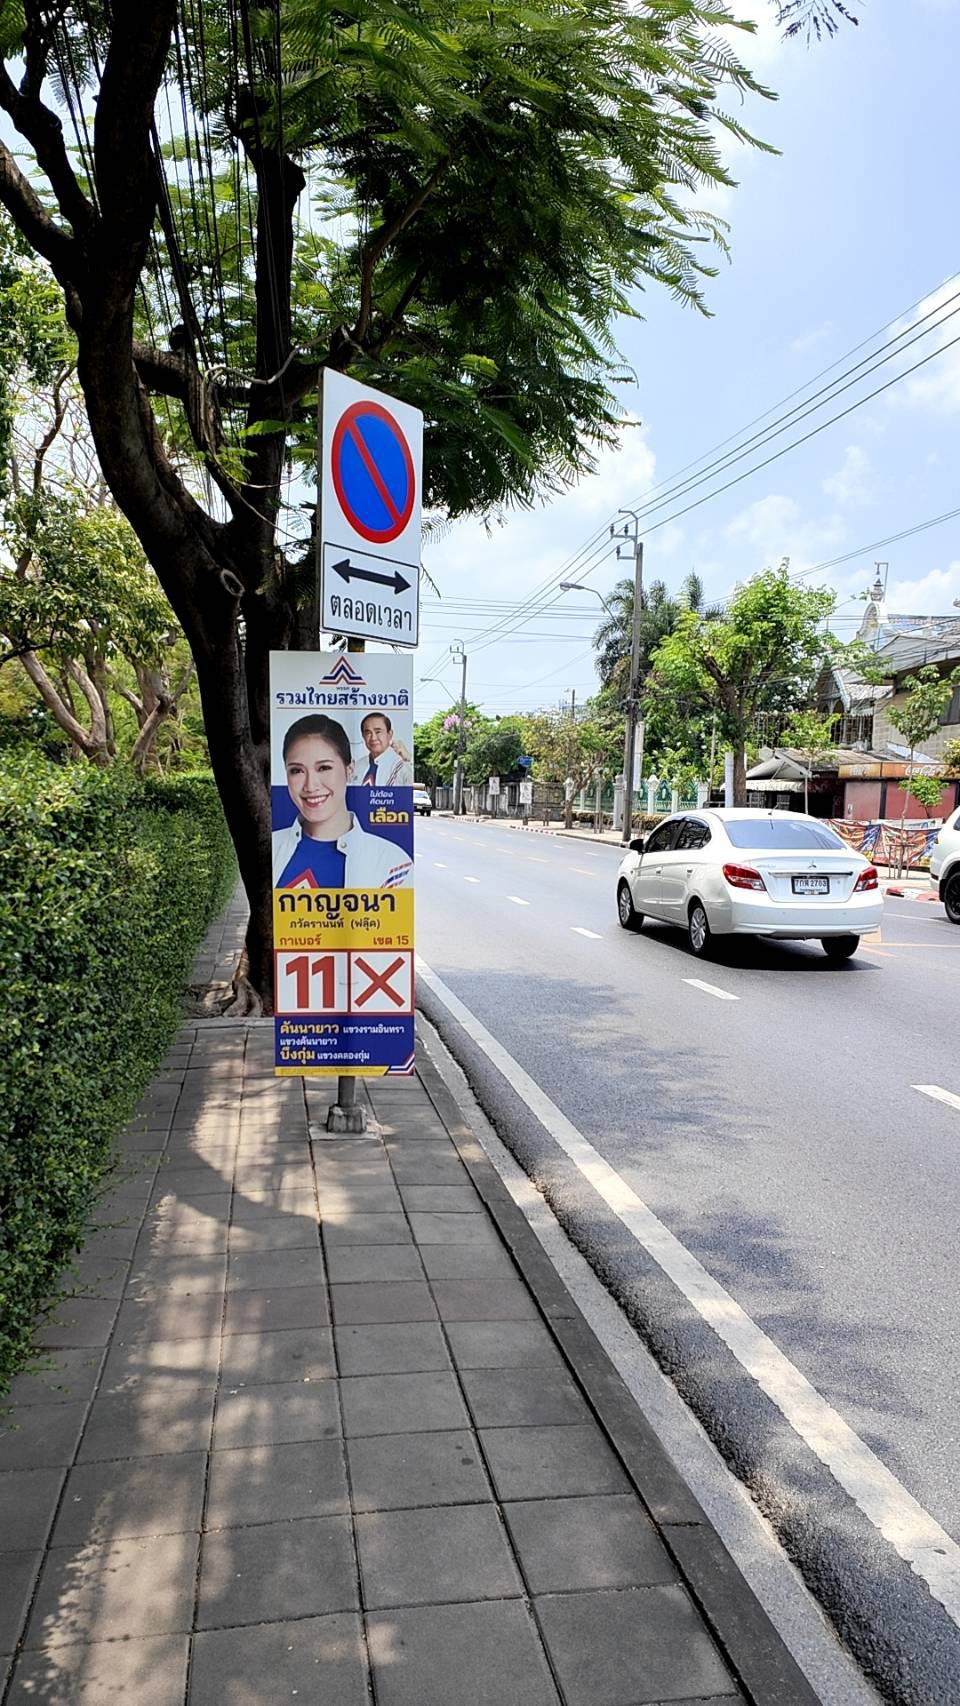Banner: (273, 641, 423, 1081)
